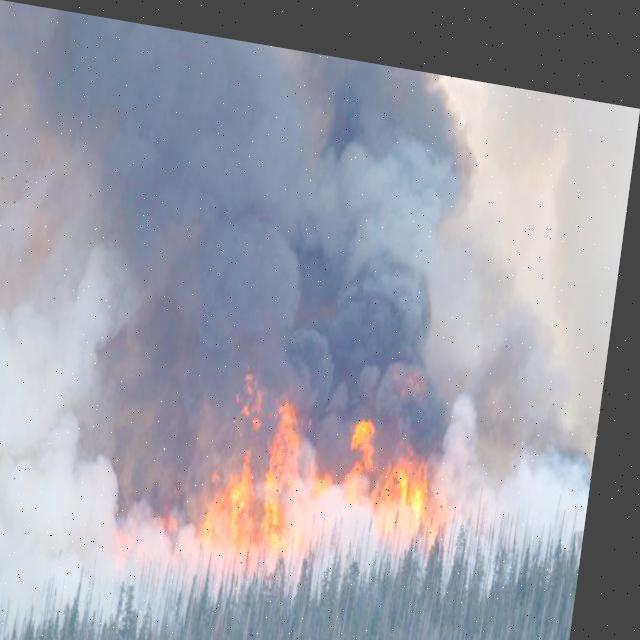Fire: (135, 356, 472, 600)
